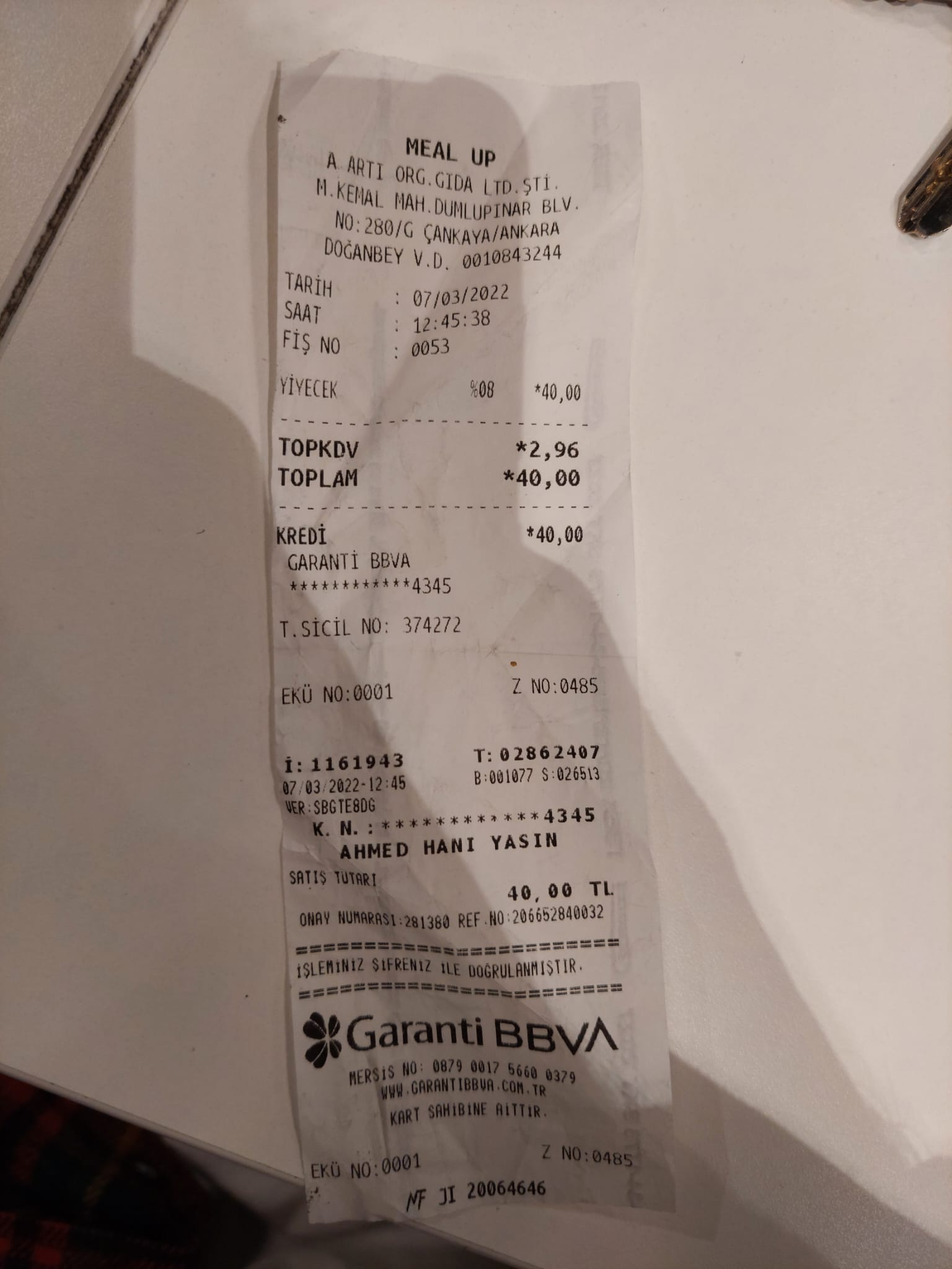date: (513, 461, 588, 497)
price: (407, 281, 512, 311)
workplace: (311, 126, 590, 248)
